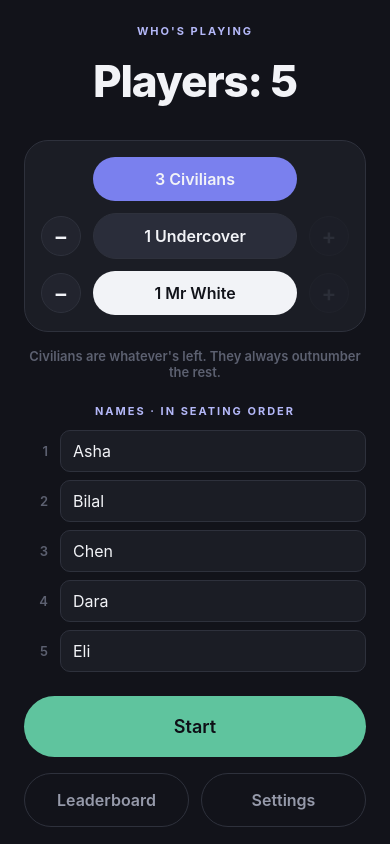
Test: app — players and leaderboard › AP5 the leaderboard opens from setup too
Click the button with test id "setup-leaderboard".
click(106, 800)  # box [24,773,189,827]
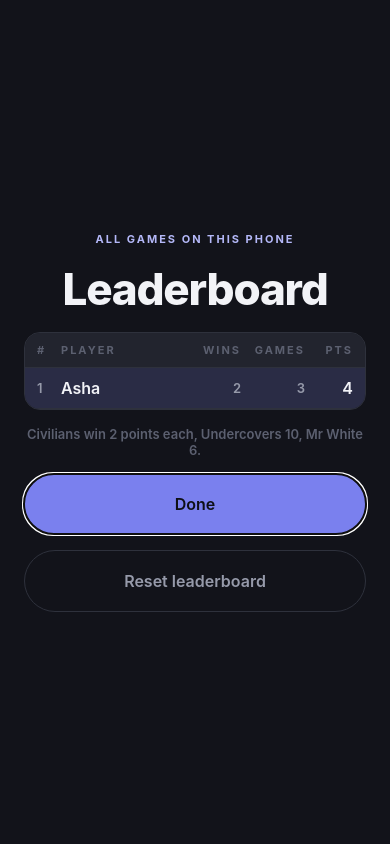
Result: the text "Asha" is shown at [61,378,100,398]
